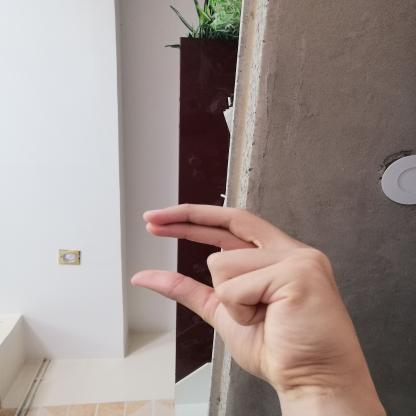DHELL: (116, 195, 372, 395)
